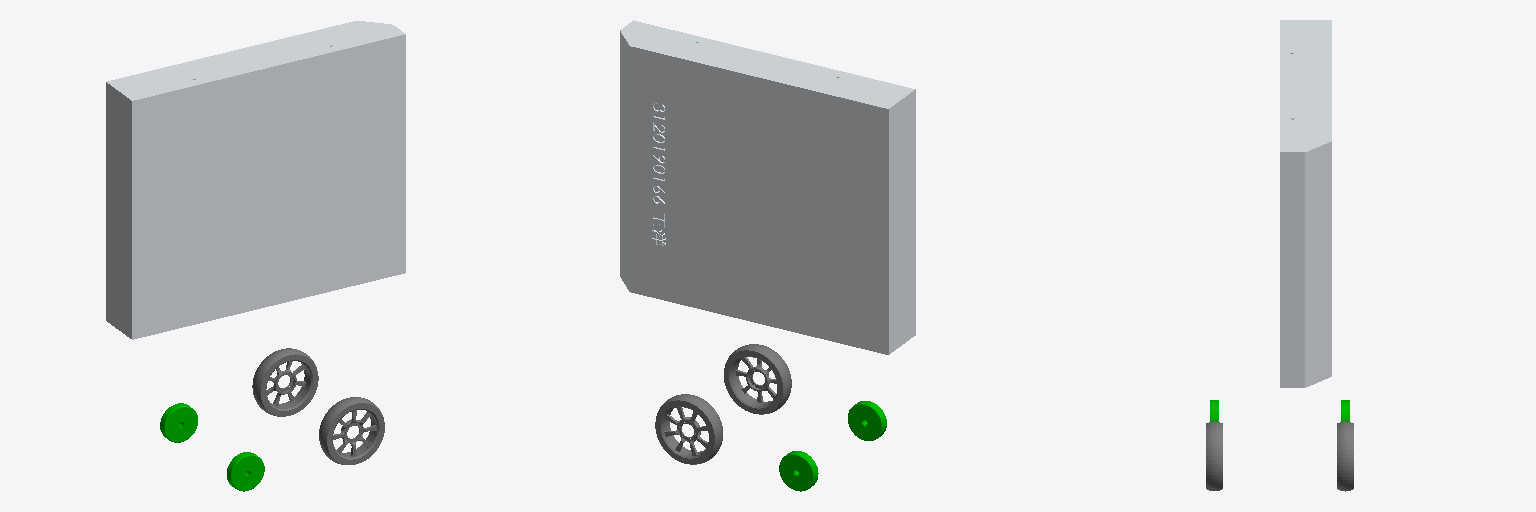
URDF robot description (robot2):

<robot
  name="robot2">

  <link name="world"/>


  <link
    name="base_link">
    <inertial>
      <origin
        xyz="0.017936707171404 0.00054473195811784 -0.123239325963291"
        rpy="0 0 0" />
      <mass
        value="12.9070265324055" />
      <inertia
        ixx="0.710819177579803"
        ixy="0.00037248634763664"
        ixz="0.0404097425726636"
        iyy="0.578743280507746"
        iyz="0.000521241409394757"
        izz="0.234537256967397" />
    </inertial>
    <visual>
      <origin
        xyz="0 0 0"
        rpy="0 0 0" />
      <geometry>
        <mesh
          filename="package://robot2/meshes/base_link.STL" />
      </geometry>
      <material
        name="">
        <color
          rgba="0.898039215686275 0.917647058823529 0.929411764705882 1" />
      </material>
    </visual>
    <collision>
      <origin
        xyz="0 0 0"
        rpy="0 0 0" />
      <geometry>
        <mesh
          filename="package://robot2/meshes/base_link.STL" />
      </geometry>
    </collision>
  </link>

  <joint
        name="base_connected2_world"
        type="fixed">
        <origin
        xyz="0 0 0.55321"
        rpy="-1.5707963267949 0 0" />
        <parent
        link="world" />
        <child
        link="base_link" />
  </joint>


  <link
    name="W1_Link">
    <inertial>
      <origin
        xyz="0.000793455564381124 -1.38189681919698E-10 5.74093994565317E-10"
        rpy="0 0 0" />
      <mass
        value="0.287195115520546" />
      <inertia
        ixx="0.000832836907978905"
        ixy="-8.2306907084466E-13"
        ixz="2.93777428387729E-12"
        iyy="0.000437966335601868"
        iyz="1.11612037971207E-12"
        izz="0.000437966329932641" />
    </inertial>
    <visual>
      <origin
        xyz="0 0 0"
        rpy="0 0 0" />
      <geometry>
        <mesh
          filename="package://robot2/meshes/1_Link.STL" />
      </geometry>
      <material
        name="">
        <color
          rgba="0.501960784313725 0.501960784313725 0.501960784313725 1" />
      </material>
    </visual>
    <collision>
      <origin
        xyz="0 0 0"
        rpy="0 0 0" />
      <geometry>
        <mesh
          filename="package://robot2/meshes/1_Link.STL" />
      </geometry>
    </collision>
  </link>
  <joint
    name="joint1"
    type="continuous">
    <origin
      xyz="0.108515172687917 0.485279110277683 0.125999999999999"
      rpy="1.93411494532062 -1.5707963267949 0" />
    <parent
      link="base_link" />
    <child
      link="W1_Link" />
    <axis
      xyz="1 0 0" />
  </joint>



  <link
    name="W2_Link">
    <inertial>
      <origin
        xyz="0.000793455564376877 -1.3784351438062E-10 5.74978412104521E-10"
        rpy="0 0 0" />
      <mass
        value="0.287195115520546" />
      <inertia
        ixx="0.000832836907978904"
        ixy="-8.23073556725101E-13"
        ixz="2.93777749334848E-12"
        iyy="0.000437966335601868"
        iyz="1.11612038521778E-12"
        izz="0.00043796632993264" />
    </inertial>
    <visual>
      <origin
        xyz="0 0 0"
        rpy="0 0 0" />
      <geometry>
        <mesh
          filename="package://robot2/meshes/2_Link.STL" />
      </geometry>
      <material
        name="">
        <color
          rgba="0.501960784313725 0.501960784313725 0.501960784313725 1" />
      </material>
    </visual>
    <collision>
      <origin
        xyz="0 0 0"
        rpy="0 0 0" />
      <geometry>
        <mesh
          filename="package://robot2/meshes/2_Link.STL" />
      </geometry>
    </collision>
  </link>
  <joint
    name="joint2"
    type="continuous">
    <origin
      xyz="0.108515172688168 0.485279110277728 -0.126000000000001"
      rpy="3.12733988546294 1.5707963267949 0" />
    <parent
      link="base_link" />
    <child
      link="W2_Link" />
    <axis
      xyz="1 0 0" />
  </joint>
  <link
    name="W3_Link">
    <inertial>
      <origin
        xyz="5.19584375524573E-14 5.4900528567714E-14 0.00899999999999977"
        rpy="0 0 0" />
      <mass
        value="0.0770861160413619" />
      <inertia
        ixx="2.97268485871718E-05"
        ixy="2.5410988417629E-21"
        ixz="-1.59580831175253E-20"
        iyy="2.97268485871718E-05"
        iyz="-1.11056369965151E-20"
        izz="5.532802779989E-05" />
    </inertial>
    <visual>
      <origin
        xyz="0 0 0"
        rpy="0 0 0" />
      <geometry>
        <mesh
          filename="package://robot2/meshes/3_Link.STL" />
      </geometry>
      <material
        name="">
        <color
          rgba="0 0.752941176470588 0 1" />
      </material>
    </visual>
    <collision>
      <origin
        xyz="0 0 0"
        rpy="0 0 0" />
      <geometry>
        <mesh
          filename="package://robot2/meshes/3_Link.STL" />
      </geometry>
    </collision>
  </link>
  <joint
    name="joint3"
    type="continuous">
    <origin
      xyz="-0.124380455219949 0.515705341337776 0.116999999999995"
      rpy="0 0 2.54661249212373" />
    <parent
      link="base_link" />
    <child
      link="W3_Link" />
    <axis
      xyz="0 0 1" />
  </joint>
  <link
    name="W4_Link">
    <inertial>
      <origin
        xyz="-2.72004641033163E-15 -5.38458166943201E-15 0.0090000000000002"
        rpy="0 0 0" />
      <mass
        value="0.077086116041362" />
      <inertia
        ixx="2.97268485871719E-05"
        ixy="-2.5410988417629E-21"
        ixz="1.47844140142988E-20"
        iyy="2.97268485871718E-05"
        iyz="-2.4854028217573E-20"
        izz="5.532802779989E-05" />
    </inertial>
    <visual>
      <origin
        xyz="0 0 0"
        rpy="0 0 0" />
      <geometry>
        <mesh
          filename="package://robot2/meshes/4_Link.STL" />
      </geometry>
      <material
        name="">
        <color
          rgba="0 0.752941176470588 0 1" />
      </material>
    </visual>
    <collision>
      <origin
        xyz="0 0 0"
        rpy="0 0 0" />
      <geometry>
        <mesh
          filename="package://robot2/meshes/4_Link.STL" />
      </geometry>
    </collision>
  </link>
  <joint
    name="joint4"
    type="continuous">
    <origin
      xyz="-0.124380455220023 0.51570534133776 -0.134999999999995"
      rpy="0 0 2.54661249212372" />
    <parent
      link="base_link" />
    <child
      link="W4_Link" />
    <axis
      xyz="0 0 1" />
  </joint>
</robot>

--- What the picture shows (computed from the rendered views, not written in the file) ---
3 views of the same robot in one strip: view 1: azimuth 30°, elevation 25°; view 2: azimuth 150°, elevation 25°; view 3: azimuth 270°, elevation 25° (orthographic).
Robot: robot2 — 6 links, 5 joints (4 continuous, 1 fixed); root link world; default pose: all joints at 0.
Links seen in each view (by area): view 1: base_link, W2_Link, W1_Link, W3_Link, W4_Link; view 2: base_link, W2_Link, W1_Link, W3_Link, W4_Link; view 3: base_link, W1_Link, W2_Link.
Link boxes in pixels (x1=…): base_link: x1=106, y1=21, x2=405, y2=339; W2_Link: x1=319, y1=397, x2=384, y2=464; W1_Link: x1=252, y1=348, x2=318, y2=416; W3_Link: x1=160, y1=403, x2=197, y2=442; W4_Link: x1=227, y1=452, x2=264, y2=491; base_link: x1=620, y1=20, x2=915, y2=354; W2_Link: x1=724, y1=344, x2=791, y2=414; W1_Link: x1=655, y1=394, x2=722, y2=464; W3_Link: x1=779, y1=451, x2=818, y2=491; W4_Link: x1=848, y1=401, x2=886, y2=440; base_link: x1=1280, y1=20, x2=1331, y2=387; W1_Link: x1=1337, y1=421, x2=1353, y2=491; W2_Link: x1=1206, y1=421, x2=1222, y2=490.
Size in the robot's own frame: 0.6 by 0.283 by 0.8052 metres.
5 mesh visuals loaded from 5 distinct referenced files (5 binary STL).